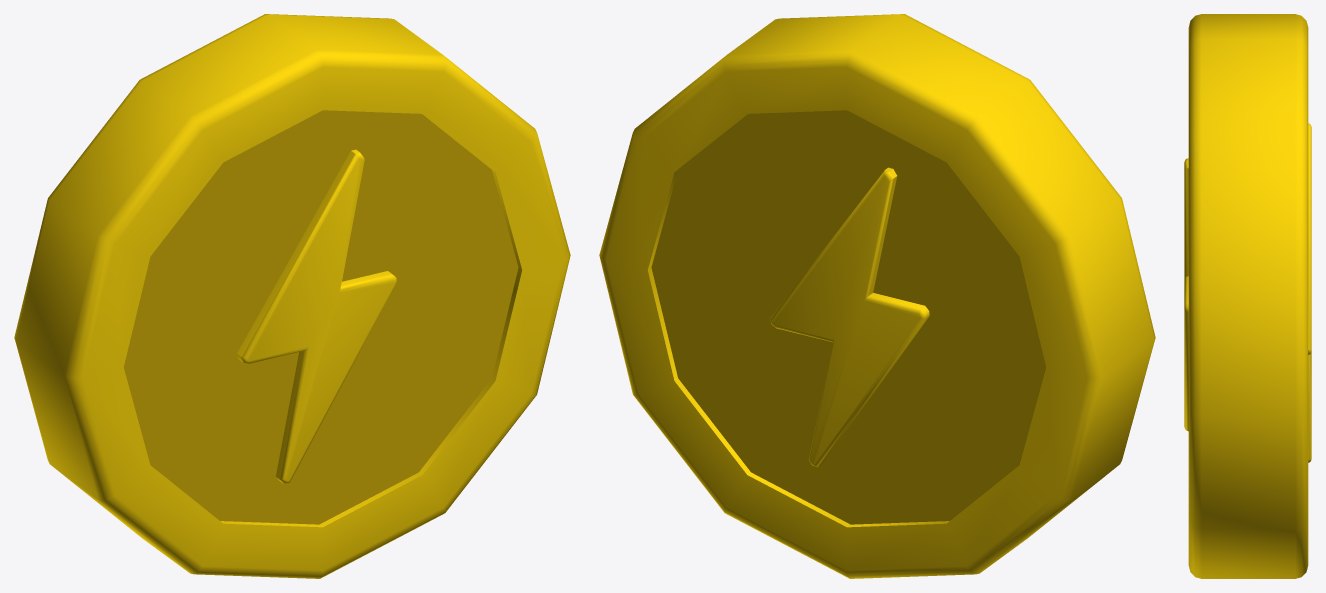
Rendered from Lighting Coin.fbx.
The picture shows the model from 3 angles, left to right: view 1: azimuth 30°, elevation 25°; view 2: azimuth 150°, elevation 25°; view 3: azimuth 270°, elevation 25°; orthographic projection. The views are drawn at different scales.
Parts seen in each view (by area): view 1: Lighting Coin; view 2: Lighting Coin; view 3: Lighting Coin.
Part boxes in pixels (x1=…): Lighting Coin: x1=14, y1=14, x2=570, y2=578; Lighting Coin: x1=599, y1=14, x2=1155, y2=578; Lighting Coin: x1=1184, y1=14, x2=1311, y2=578.
Size of the model in its own units: 0.2371 by 0.2371 by 0.0532.
